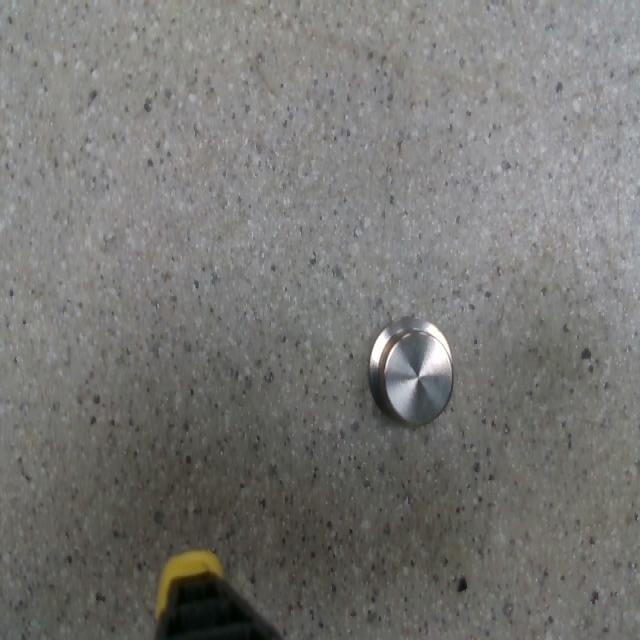sensor: (368, 318, 454, 425)
